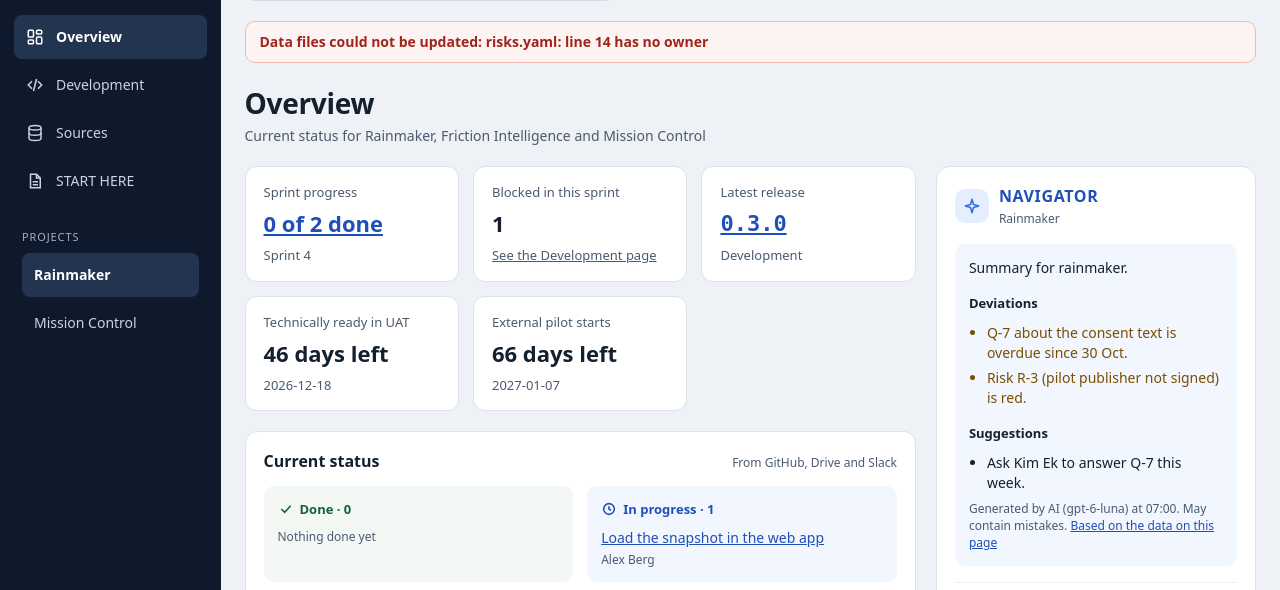
Test case: Navigator AI text › switches the text with the project
Click the link "Mission Control". click: (85, 322)
box: [34,313,137,332]
(page scrolled)
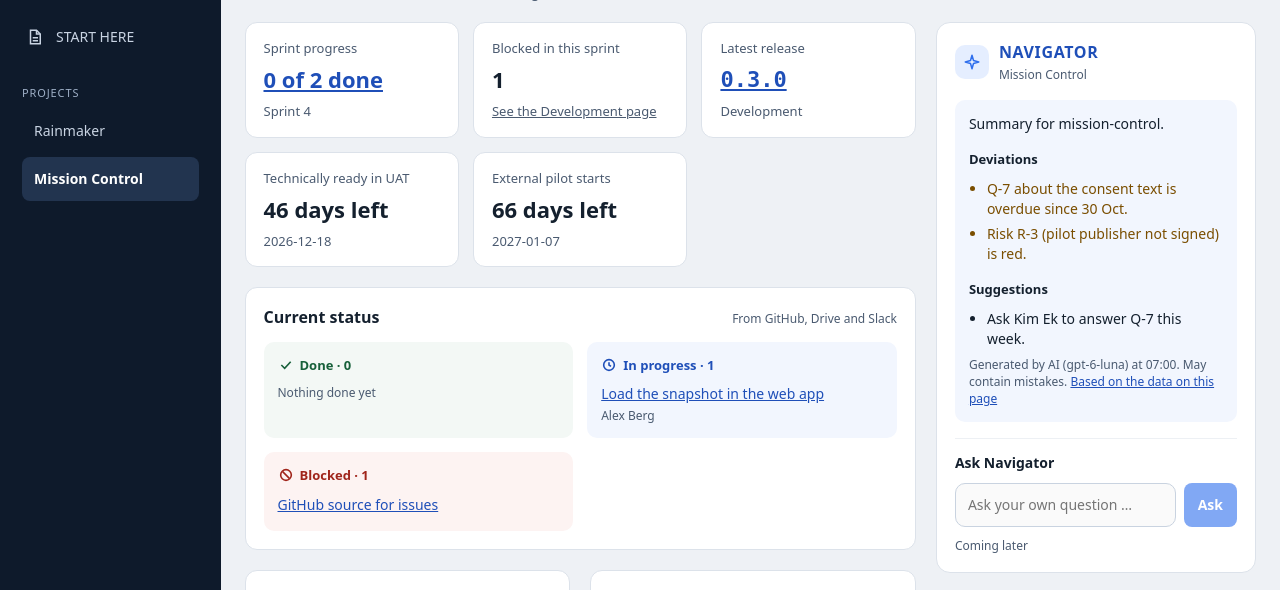
Expected: the element "NAVIGATOR" shows "Summary for mission-control.", [969,114,1164,133]
